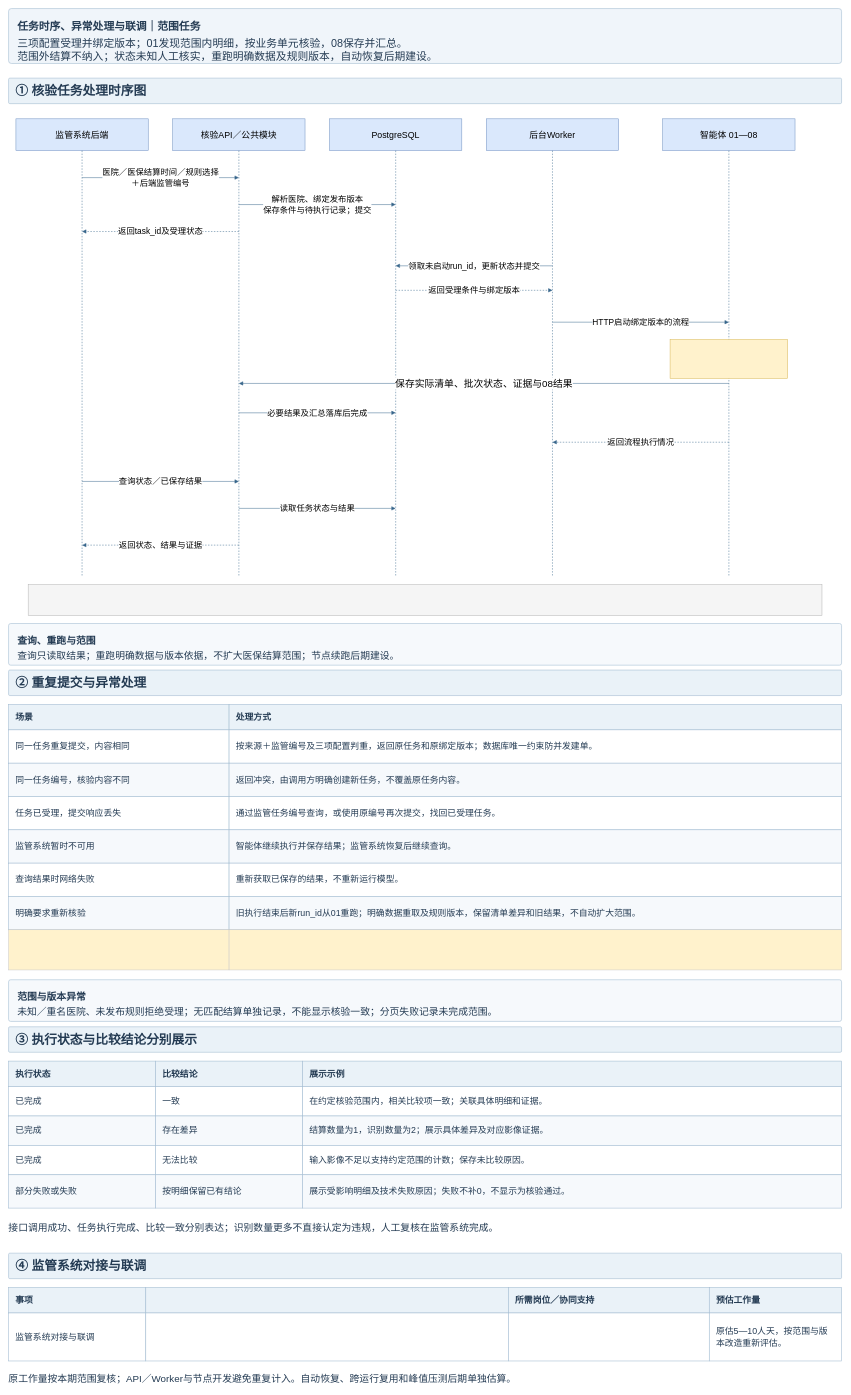
The diagram is 851 pixels wide and 1395 high, and some of its shapes have lost their labels. The shapes that lost their labels are listed below. From the top down, each one's centre as x and y in pixels, then its label:
the point at 729,359: 01范围查询／快照 02—07分组核验 08保存并汇总
the point at 425,600: 医保结算范围固定；实际明细由01发现，各批次规则版本一致 03只查关联检查记录，不增加范围外结算；未知执行状态先人工核实。
the point at 118,949: 执行中断或调用超时
the point at 535,949: 可捕获错误记失败或待确认；进程突退由人员核实最后状态。确认旧执行结束后新run_id从01重跑，不自动重提。
the point at 326,1300: 待完成内容
the point at 326,1336: 验证三项配置受理、版本绑定、范围边界、分页分组、明细／汇总结果和证据，以及部分失败和人工重跑。
the point at 608,1336: 智能体后端、监管系统团队；页面调整需监管系统前端支持。
